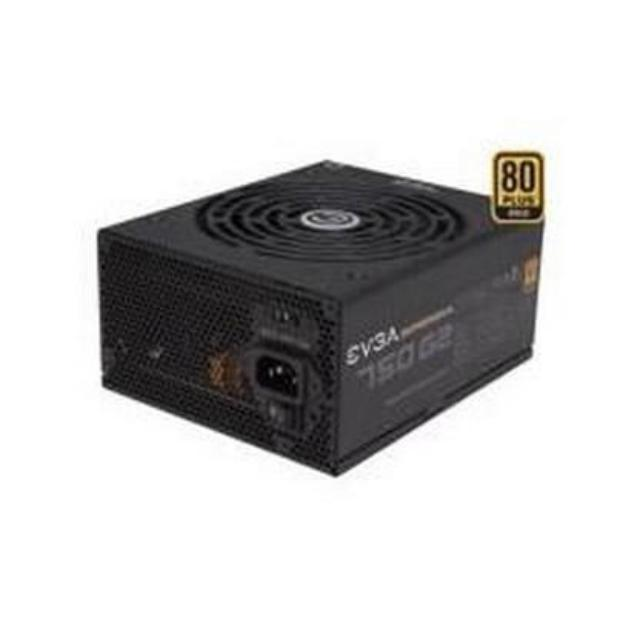PSU: (90, 155, 550, 480)
